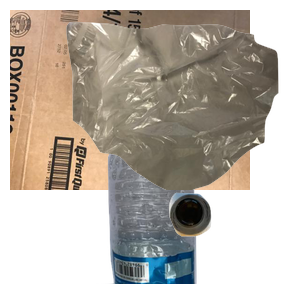cardboard: (10, 10, 250, 190)
glass: (166, 190, 300, 300)
plastic: (96, 120, 285, 300)
trash: (64, 20, 300, 200)
